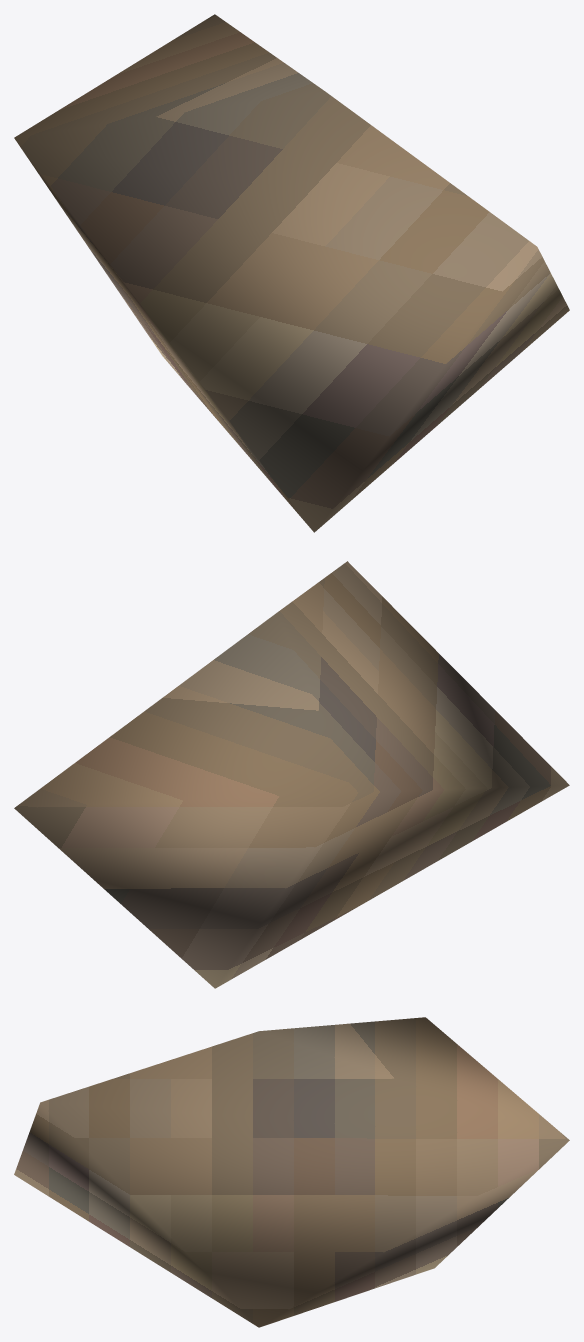
The model's file is DrillRock3_Anim.glb.
3 renders of one model, top to bottom at view 1: azimuth 30°, elevation 25°; view 2: azimuth 150°, elevation 25°; view 3: azimuth 270°, elevation 25°, orthographic. The views are drawn at different scales.
Visible parts, largest first — view 1: DrillRock3_Anim; view 2: DrillRock3_Anim; view 3: DrillRock3_Anim.
Part boxes in pixels (<box>): DrillRock3_Anim: <box>14,14,569,532</box>; DrillRock3_Anim: <box>14,561,569,988</box>; DrillRock3_Anim: <box>14,1017,569,1327</box>.
Bounding box in the file's own units: 3.98 × 2.91 × 5.78.
1 material, 1 textured.
